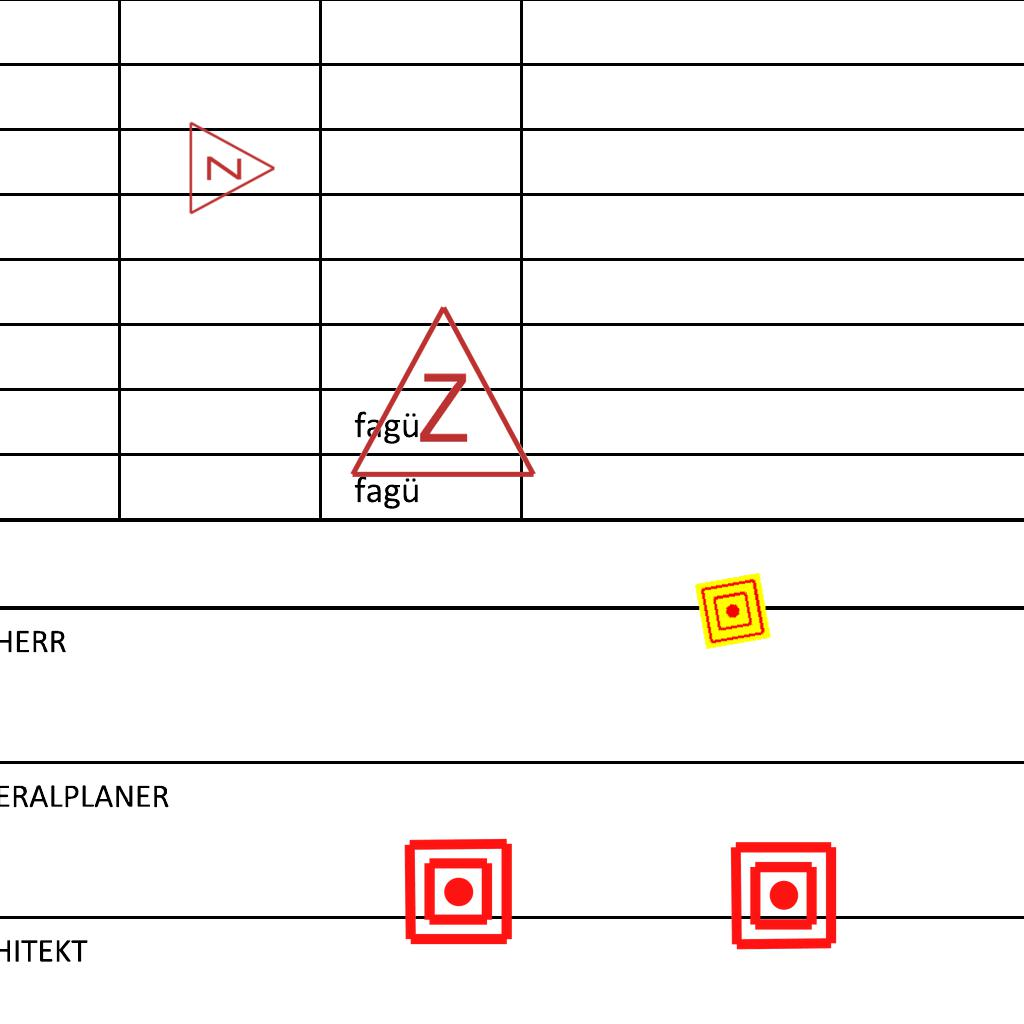NAM-Nichtautomatischer_Melder: (402, 835, 515, 948), (727, 839, 840, 952), (694, 572, 772, 650)
Zimmersignalleuchte: (343, 292, 539, 492), (182, 118, 282, 216)
